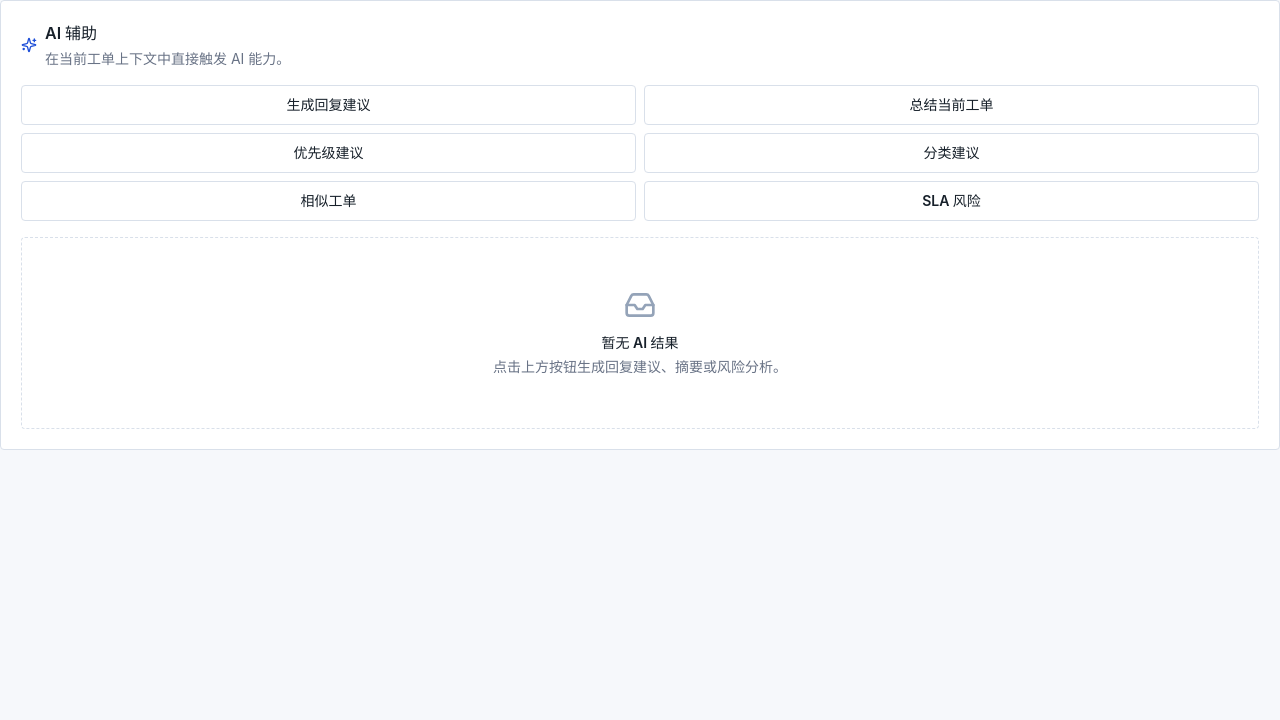
Test case: TicketAiAssistantPanel › submits the edited AI reply suggestion for STAFF
Click the button "生成回复建议". click: (328, 105)
box: [21,85,636,125]
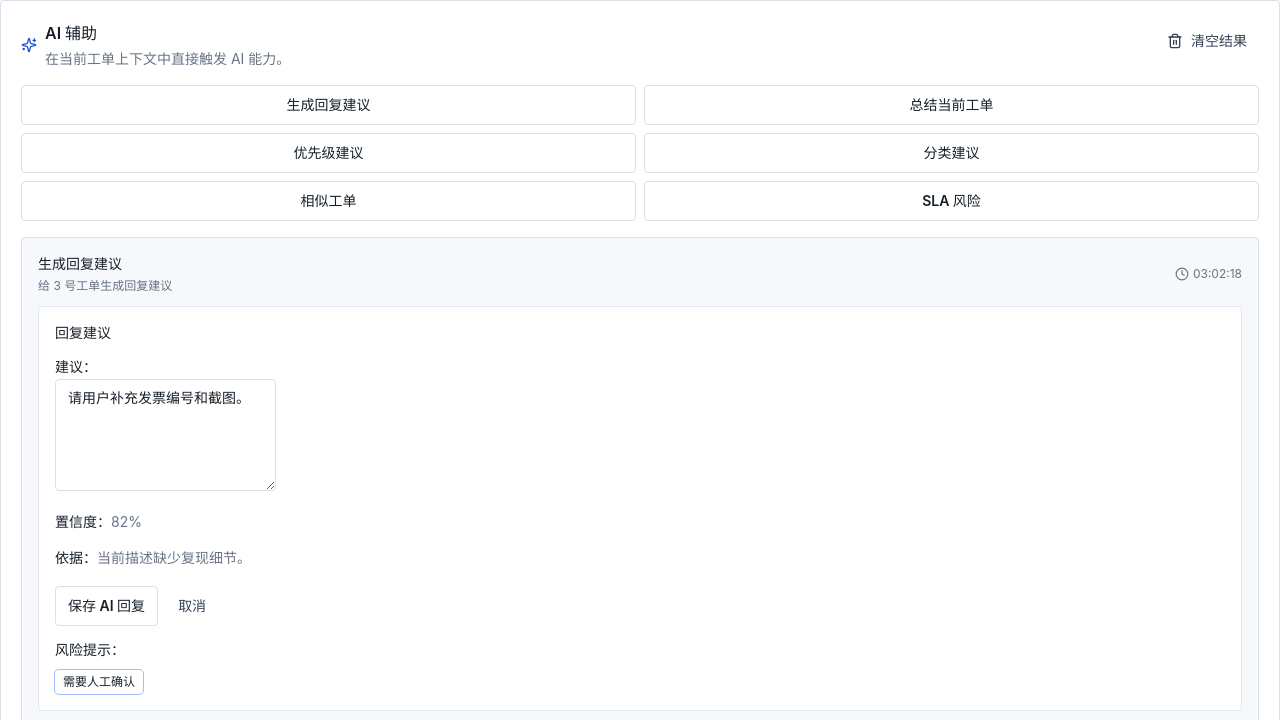
Replace the text in the text box showing "请用户补充发票编号和截图。" with "这是 STAFF 编辑后的测试回复。". click: (166, 435)
box: [55,379,276,491]
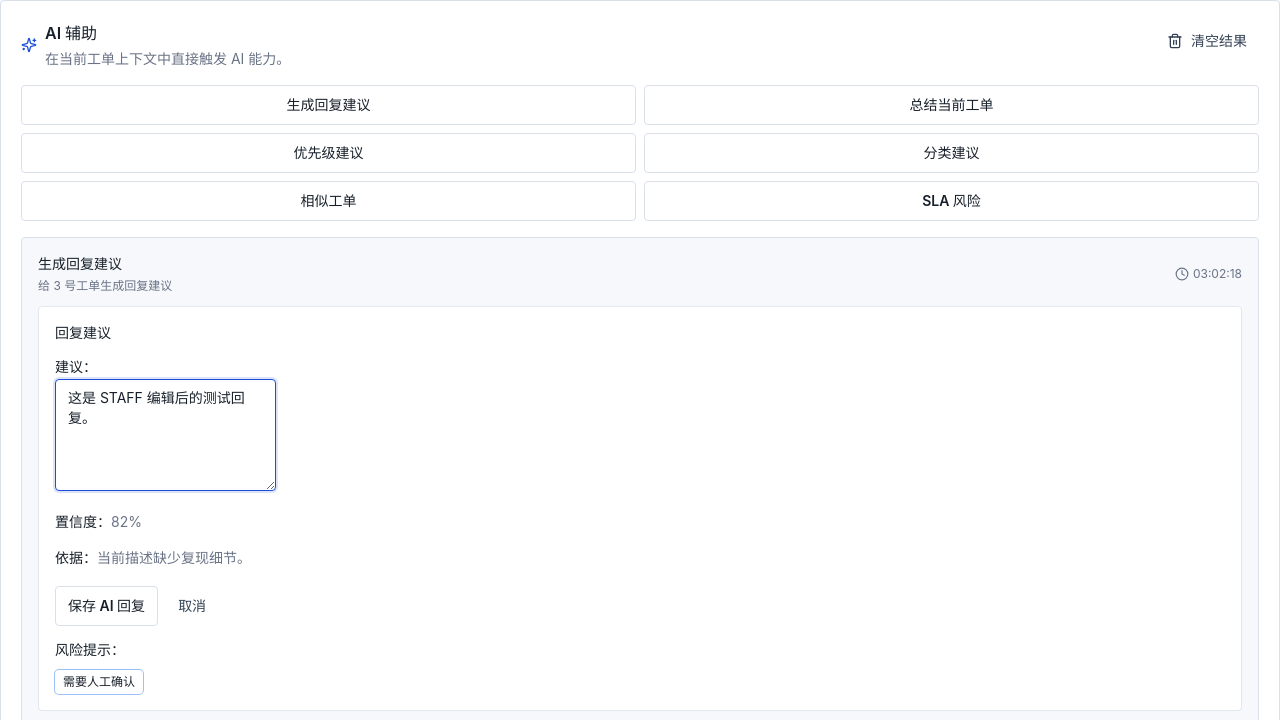
Click the button "保存 AI 回复". click: (107, 606)
box: [55,586,158,626]
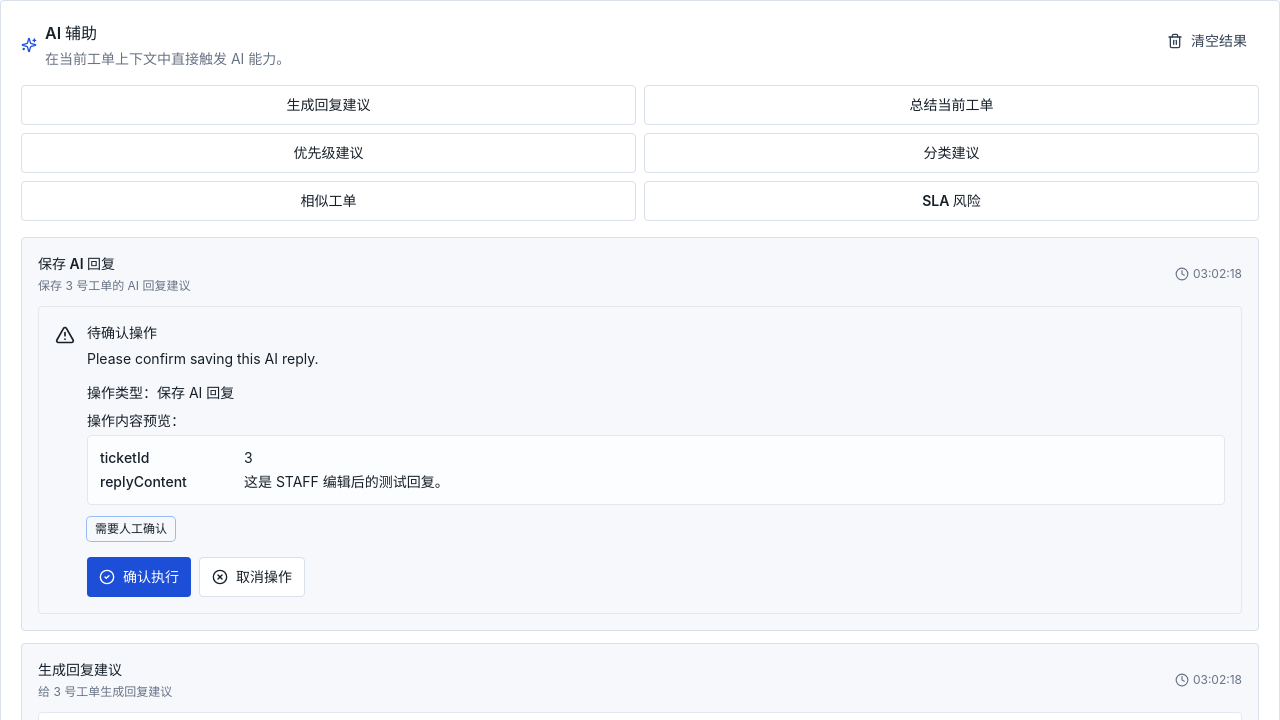
Check: the text "Please confirm saving this AI reply." is shown, box [87,350,318,367]
